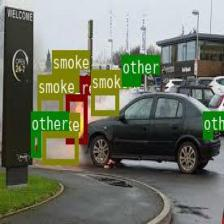fire: (65, 94, 87, 142)
smoke: (42, 131, 78, 163), (37, 94, 62, 126), (90, 88, 119, 115), (52, 70, 78, 92)
